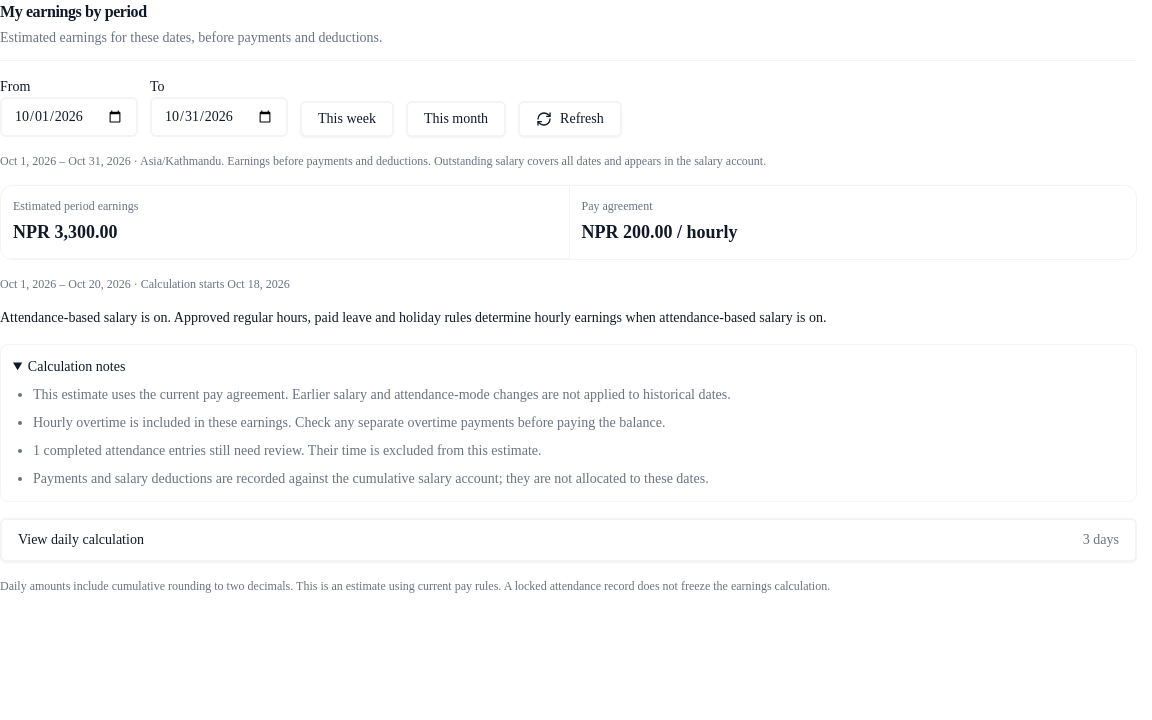
Test case: PayrollPeriodReview › keeps the daily calculation collapsed until requested
Expected: the dialog "Daily earnings calculation" is not shown
Click the button "View daily calculation 3 days". click: [81, 540]
box: [0,518,1137,562]
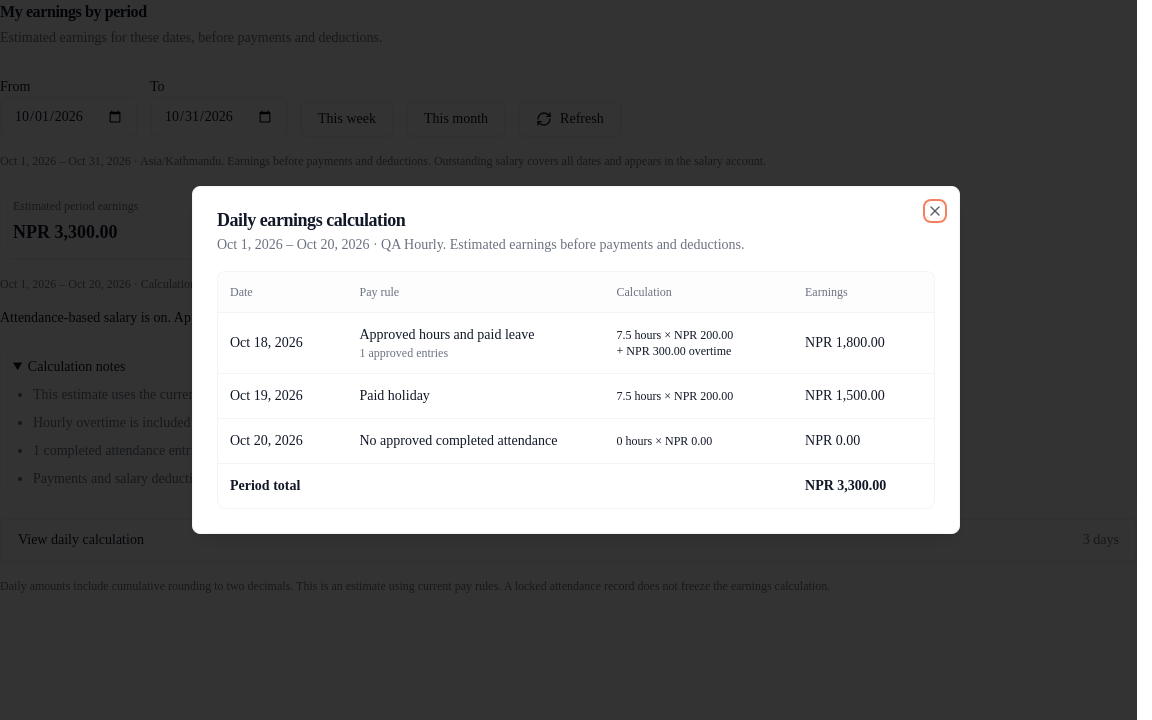
Now the dialog "Daily earnings calculation" is shown, box [192,186,960,534]
